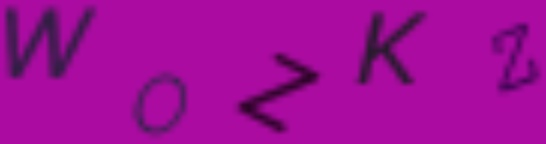K: (352, 7, 433, 90)
O: (130, 69, 191, 138)
W: (1, 3, 98, 81)
Z: (235, 51, 321, 138), (489, 19, 541, 92)
